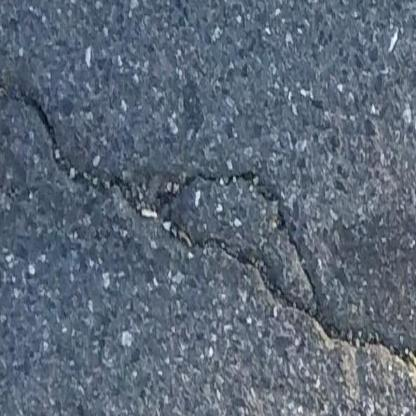Cracks: (0, 86, 416, 400)
